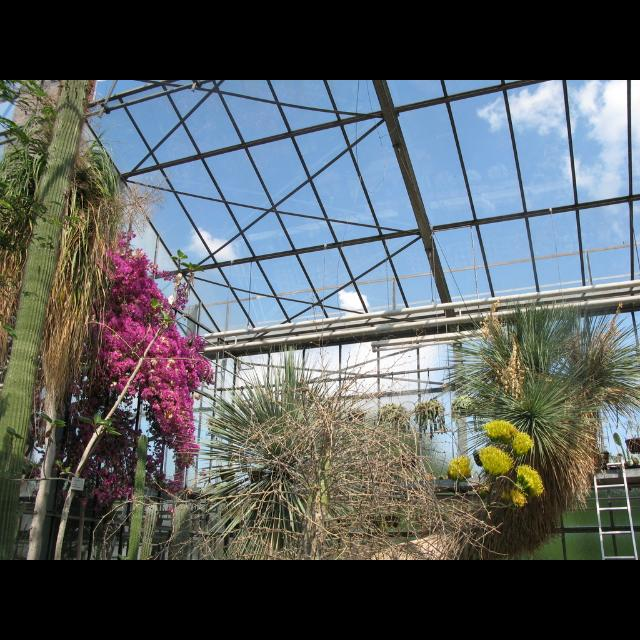Flower: (55, 230, 215, 516), (502, 464, 544, 508), (484, 419, 534, 455), (478, 445, 514, 479), (448, 456, 474, 480)
